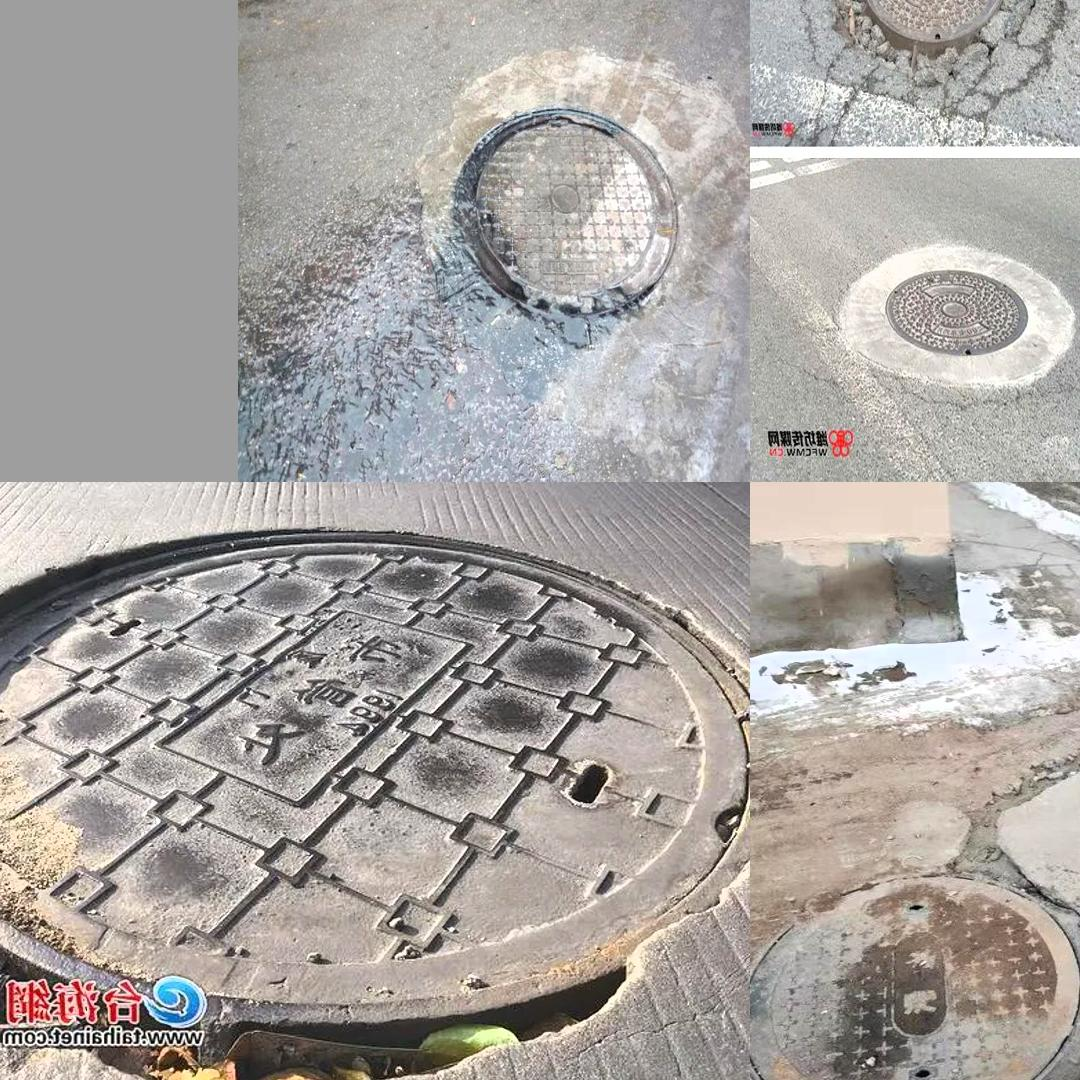circle: (0, 524, 726, 1080), (420, 73, 696, 370), (757, 855, 1080, 1080), (801, 0, 1062, 103)
